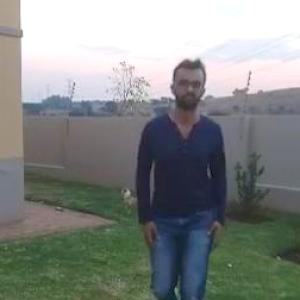follow: (136, 72, 220, 298)
